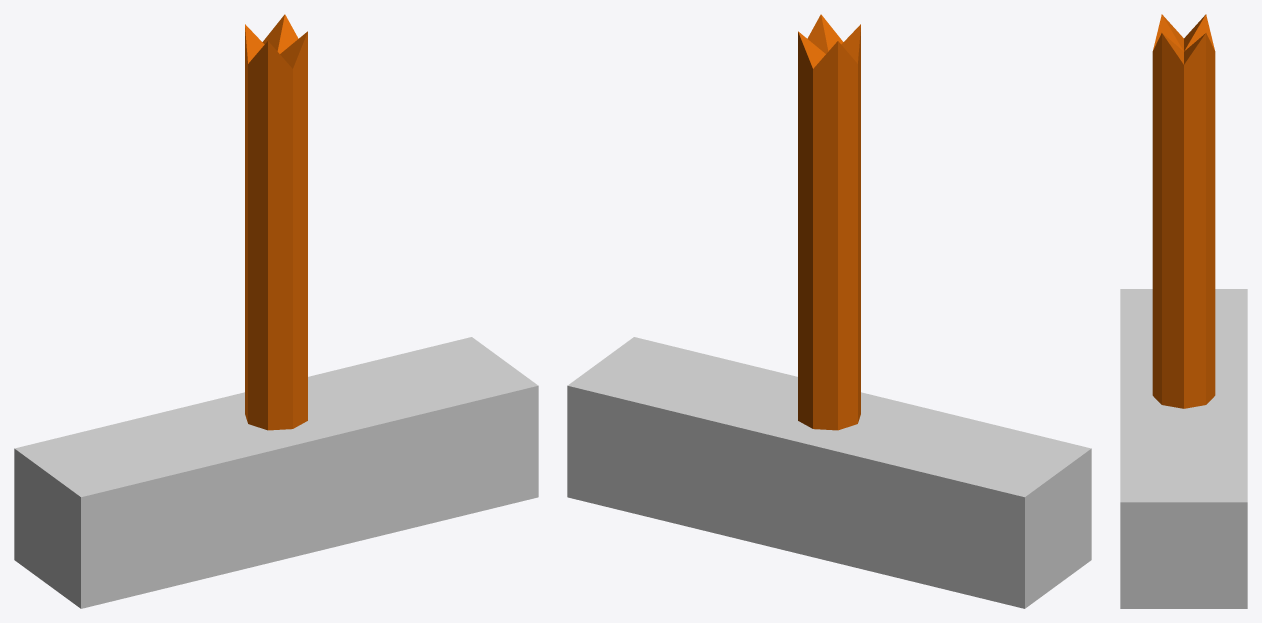
Rendered from guanineR.glb.
3 renders of one model, left to right at view 1: azimuth 30°, elevation 25°; view 2: azimuth 150°, elevation 25°; view 3: azimuth 270°, elevation 25°, orthographic. The views are drawn at different scales.
Parts seen in each view (by area): view 1: backbone, guanine; view 2: backbone, guanine; view 3: backbone, guanine.
Boxes of the visible parts, <box> form: backbone: <box>14,337,538,608</box>; guanine: <box>245,14,307,430</box>; backbone: <box>567,337,1091,608</box>; guanine: <box>798,14,860,430</box>; backbone: <box>1120,289,1247,608</box>; guanine: <box>1152,14,1215,408</box>.
Size of the model in its own units: 1.34 by 1.41 by 0.339.
